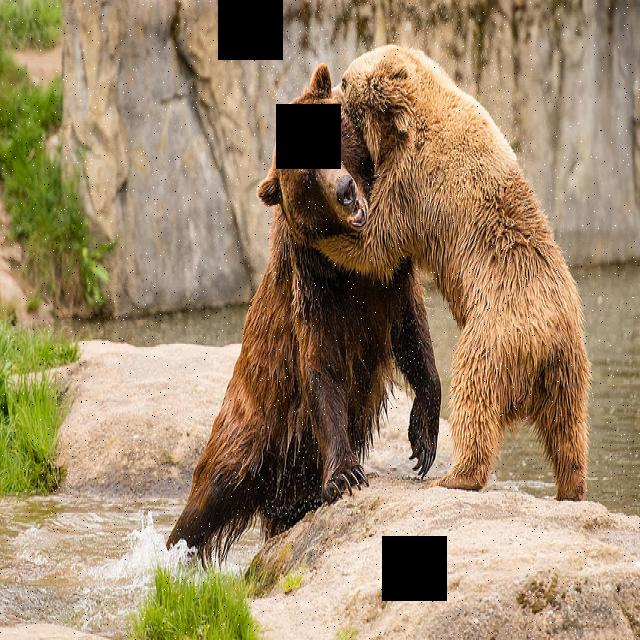Bear: (161, 73, 442, 555), (318, 32, 592, 506)
